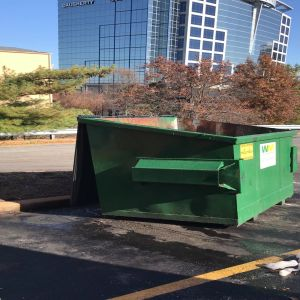Dumpster: (68, 112, 299, 228)
